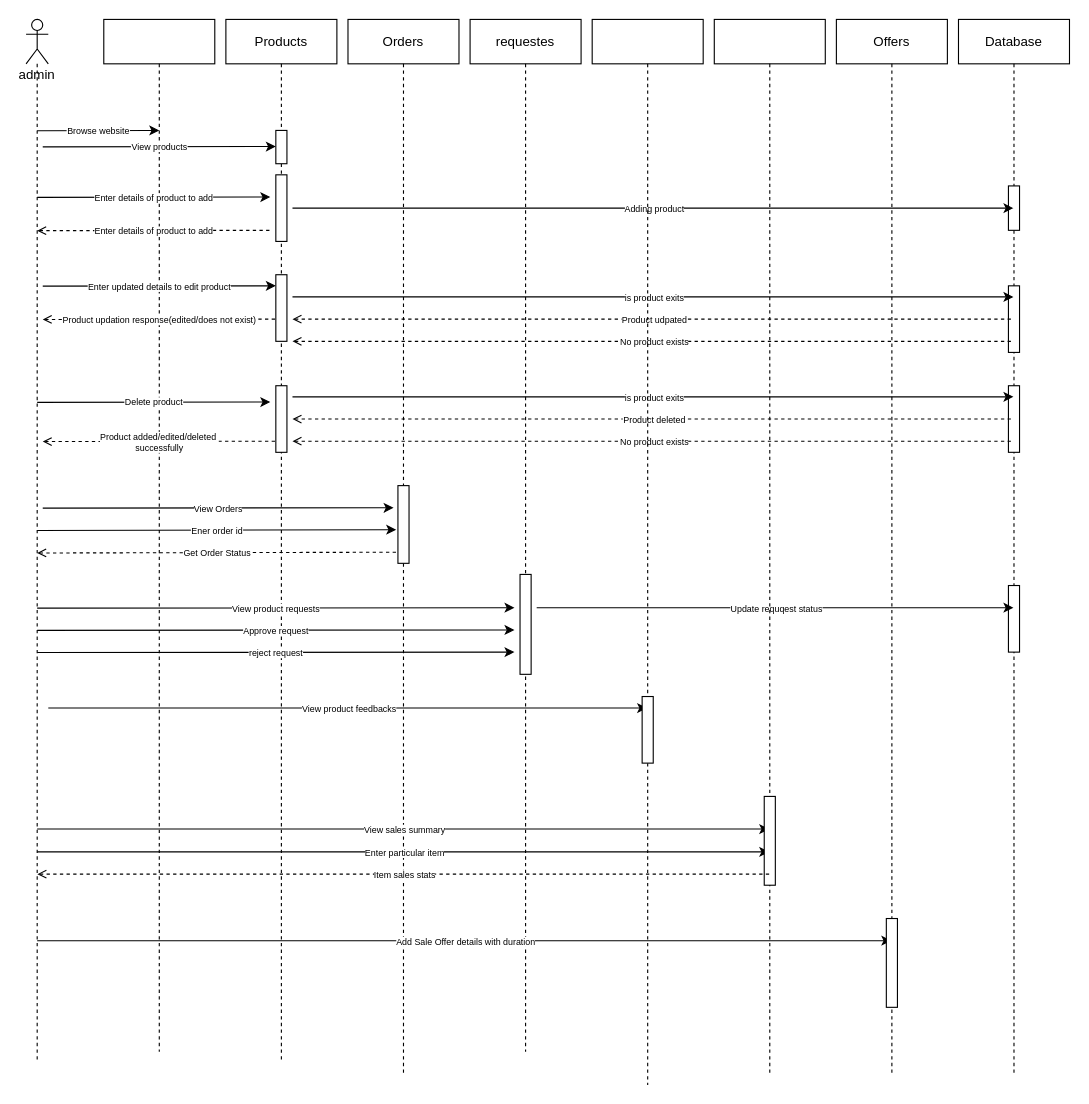
Image size: 1089x1104. Some labels were removed from this diagram. The shapes that lost their labels are listed below. From the top down, each one's box as (x1, y1, x2, y2) in pixels, then its label:
(103, 18, 215, 1052): Website
(591, 18, 703, 1085): Feedbacks
(713, 18, 825, 1074): Statistics
